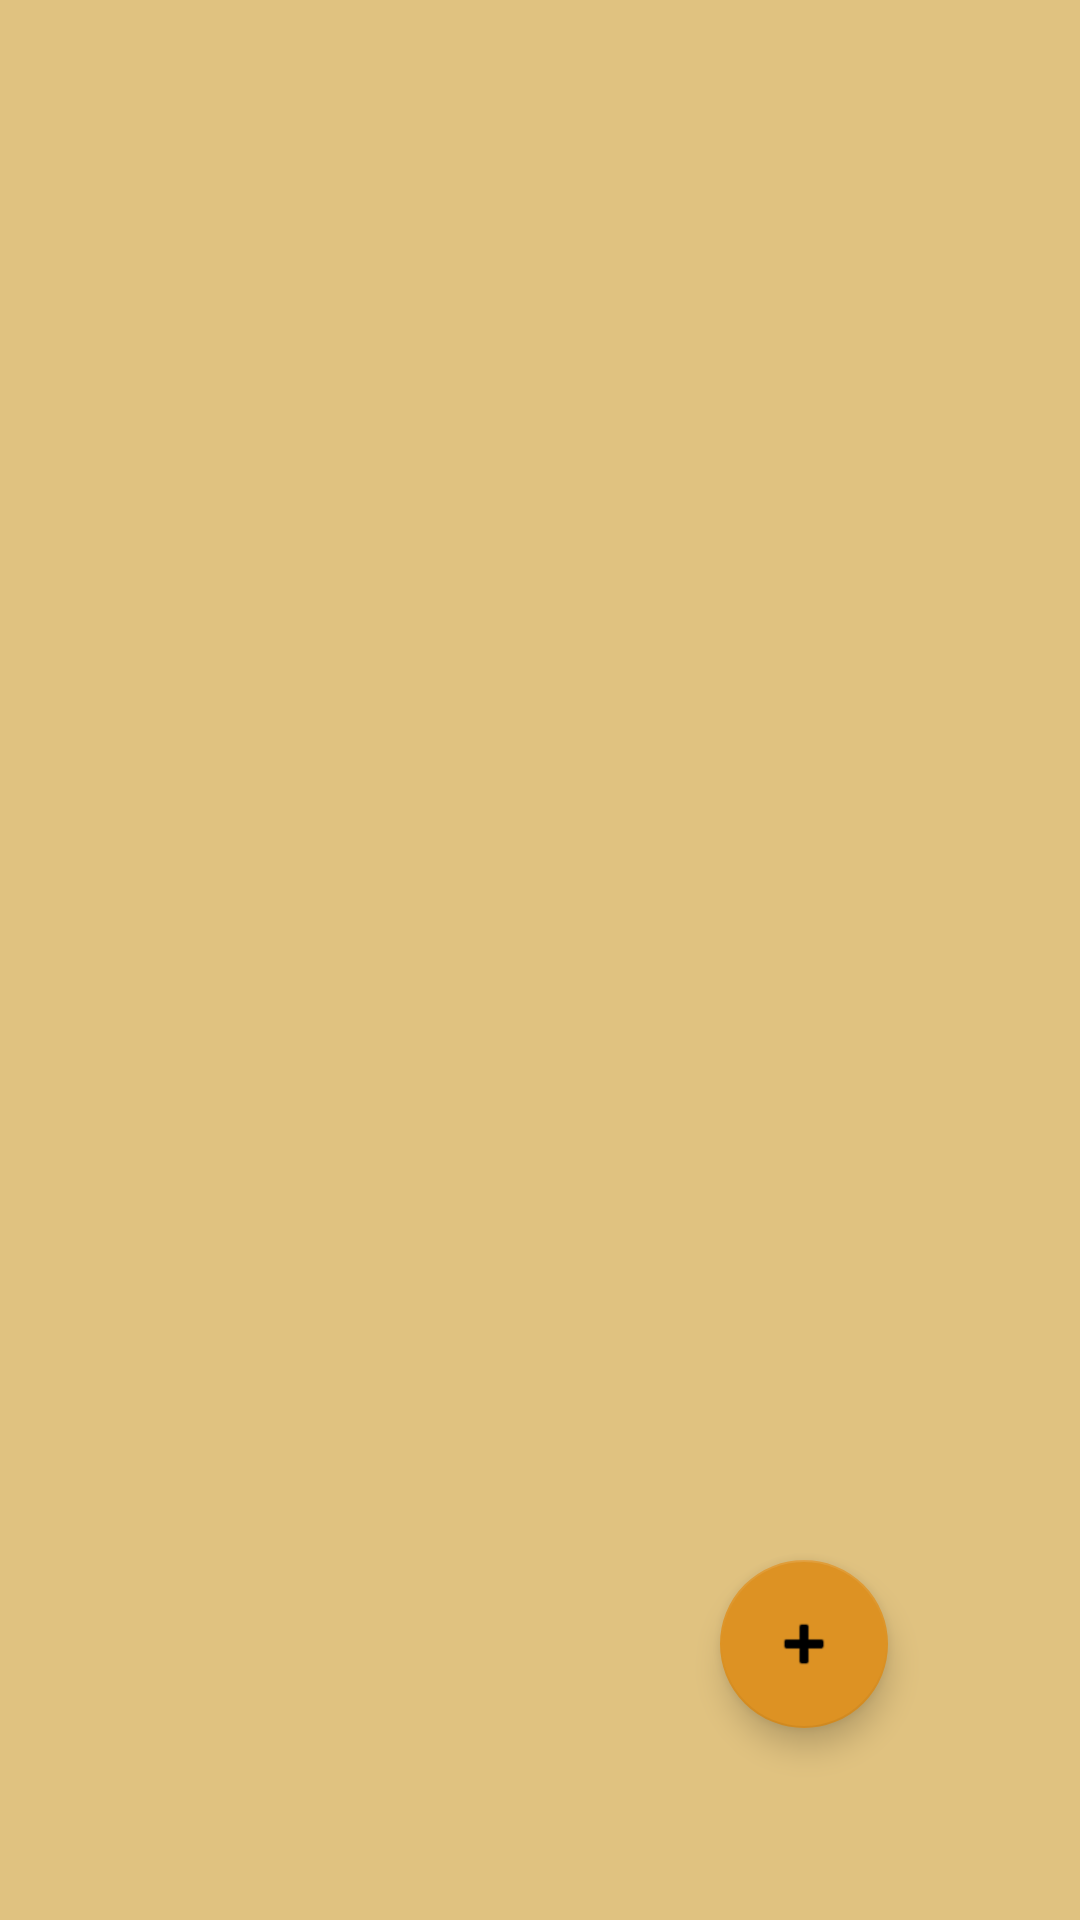

Point at icon controls on the screen. Image size 1080px×1920px, points as (x,y).
add: (804,1644)
